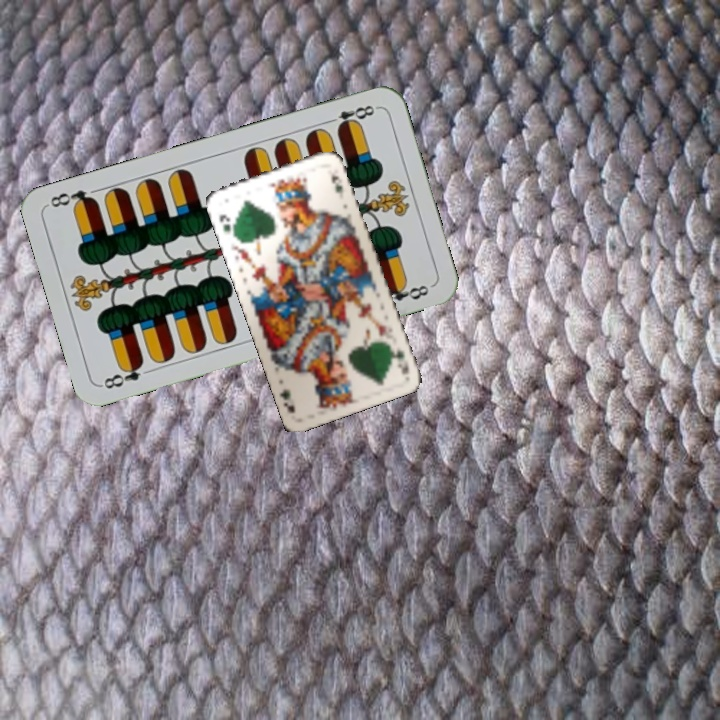E8: (322, 101, 380, 133), (99, 357, 146, 392)
GK: (386, 340, 412, 378), (215, 210, 240, 239)
